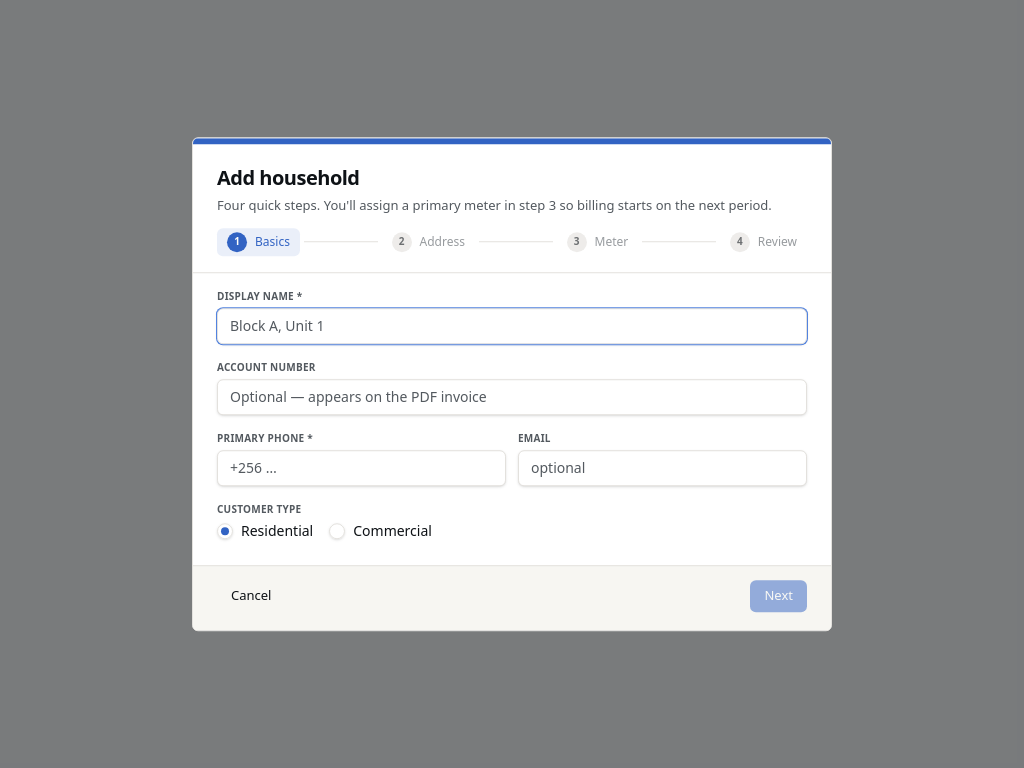
Test: HouseholdWizard › (d) step 3 empty-state › renders the warn Banner and Next is disabled when no meters exist
Step 1. Type "Household X" into the field labelled "Display name *" → (512, 326), box [217, 308, 807, 344]
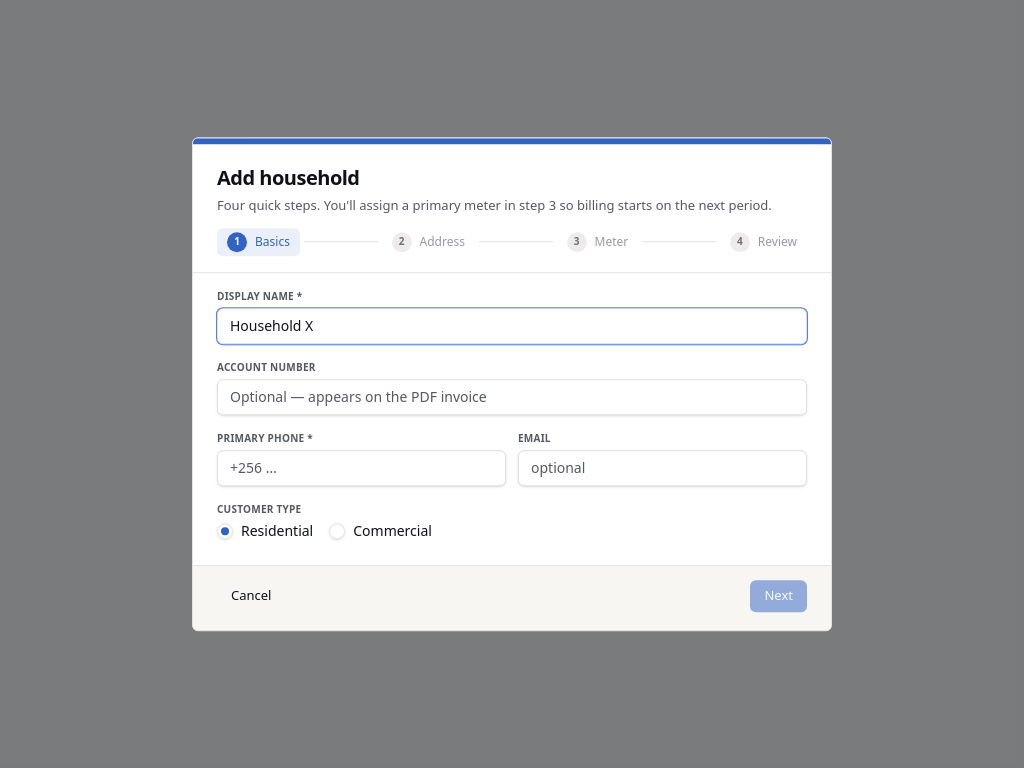
Step 2. Type "+256 700 000 000" into the field labelled "Primary phone *" → (362, 468), box [217, 450, 506, 486]
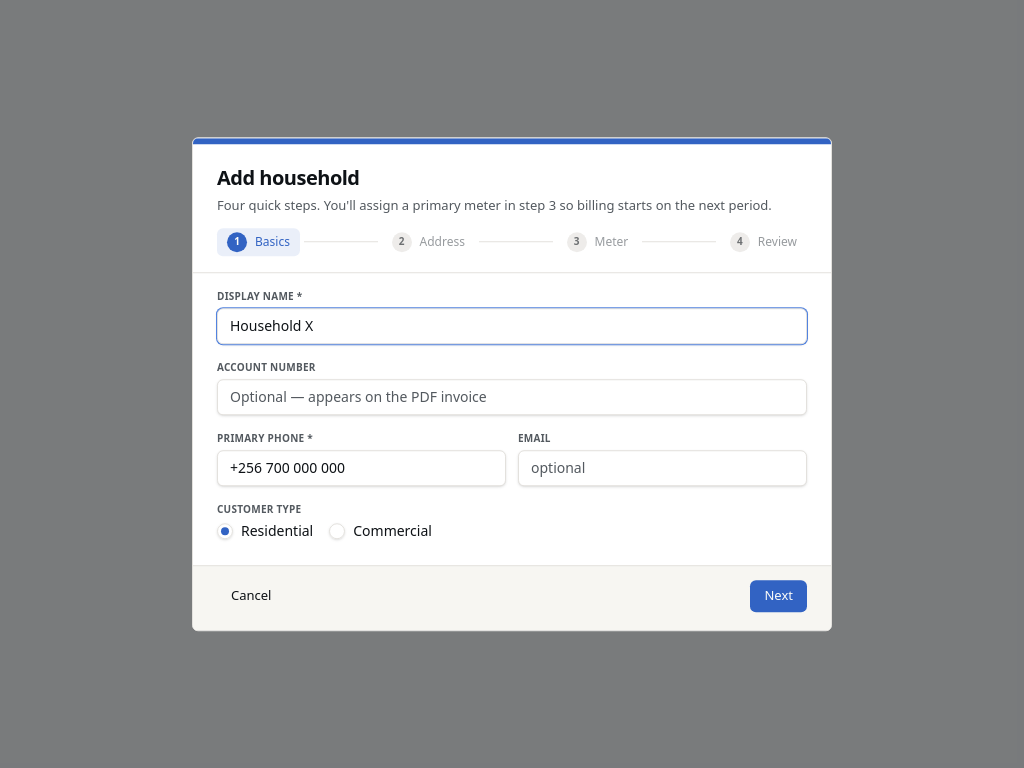
Step 3. Click the button "Next" → (779, 596), box [750, 580, 807, 612]
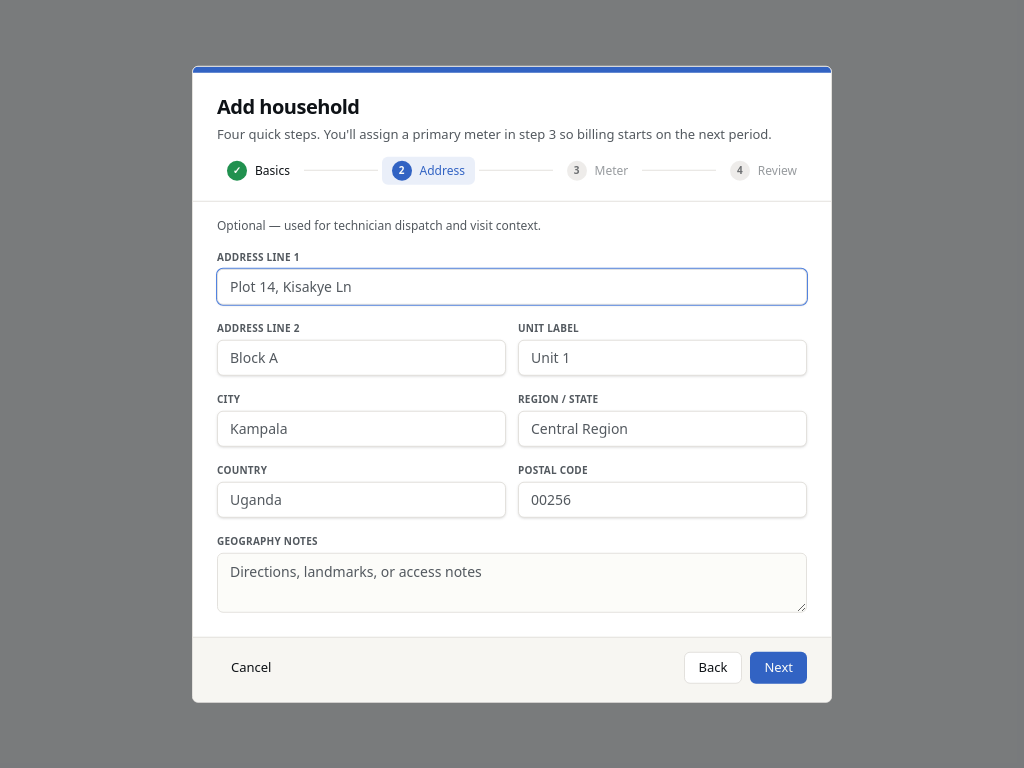
Expected: the field labelled "Address line 1" is shown, [217, 268, 807, 304]
Step 4. Click the button "Next" → (779, 667), box [750, 651, 807, 683]
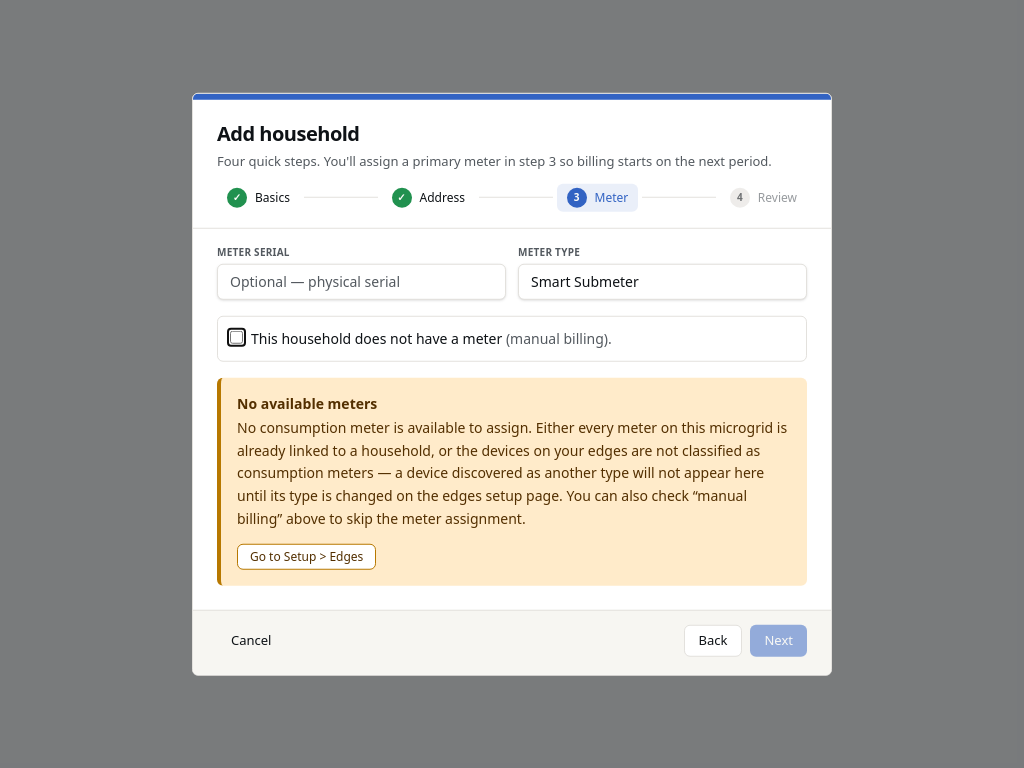
Expected: the heading "No available meters" is shown, [237, 393, 377, 412]
Expected: the button "Next" is disabled, [750, 624, 807, 656]
